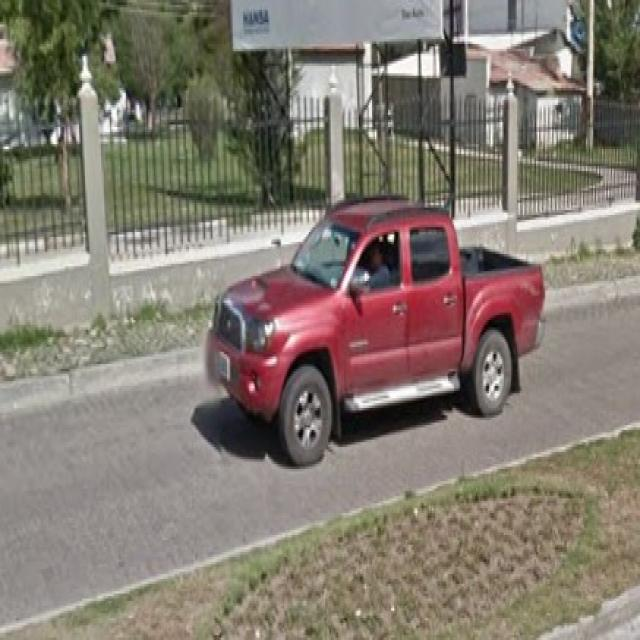Car: (198, 177, 544, 461)
